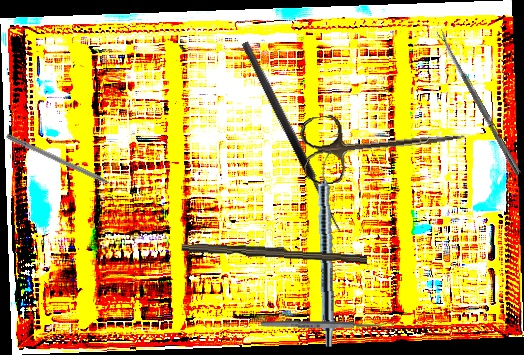Handpiece: (315, 149, 340, 348)
Hook Surgical: (239, 36, 355, 234)
Iris Scissors: (298, 99, 469, 187)
Pusher: (4, 133, 130, 196)
Scalpel Handle: (181, 240, 368, 264)
Surgical Spoon: (436, 28, 523, 177), (260, 319, 394, 331)
